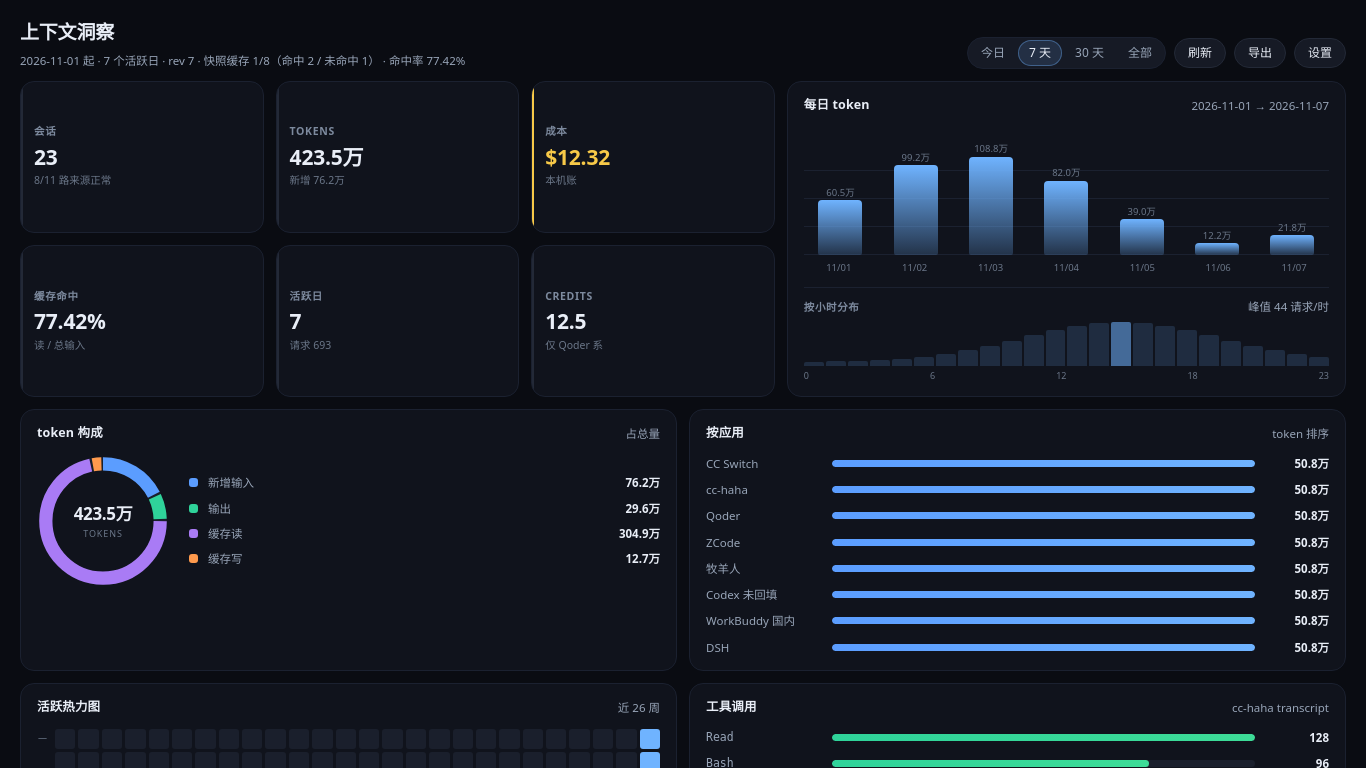
Test: 主面板右键菜单 › 右键阻止默认菜单，弹出与托盘同源的命令树；Esc 关闭
Right-click the element with test id "insights": [683, 384] box [0,0,1365,767]
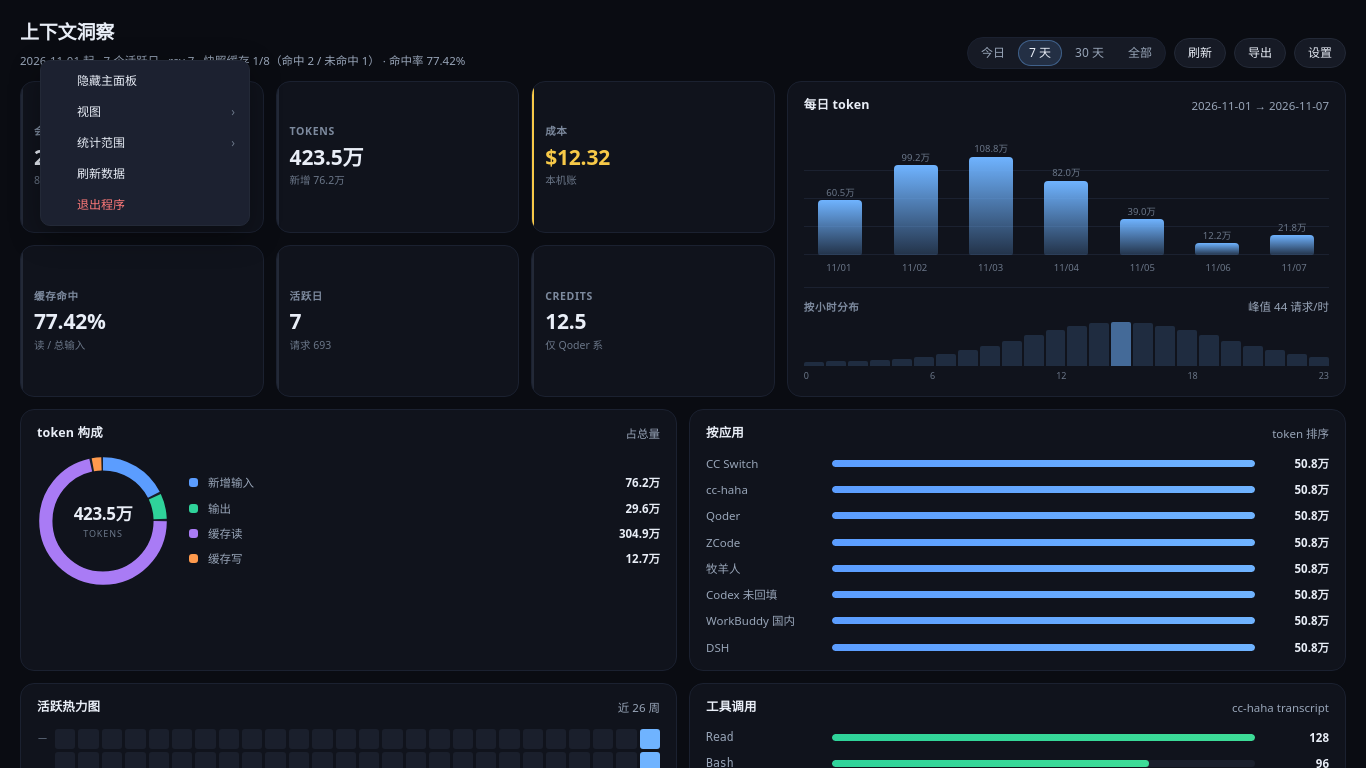
Result: the menu with test id "context-menu" is shown at [40,60,250,226]
Result: the menu item with test id "menu-panel.toggle" is shown at [46,66,244,96]
Press Escape
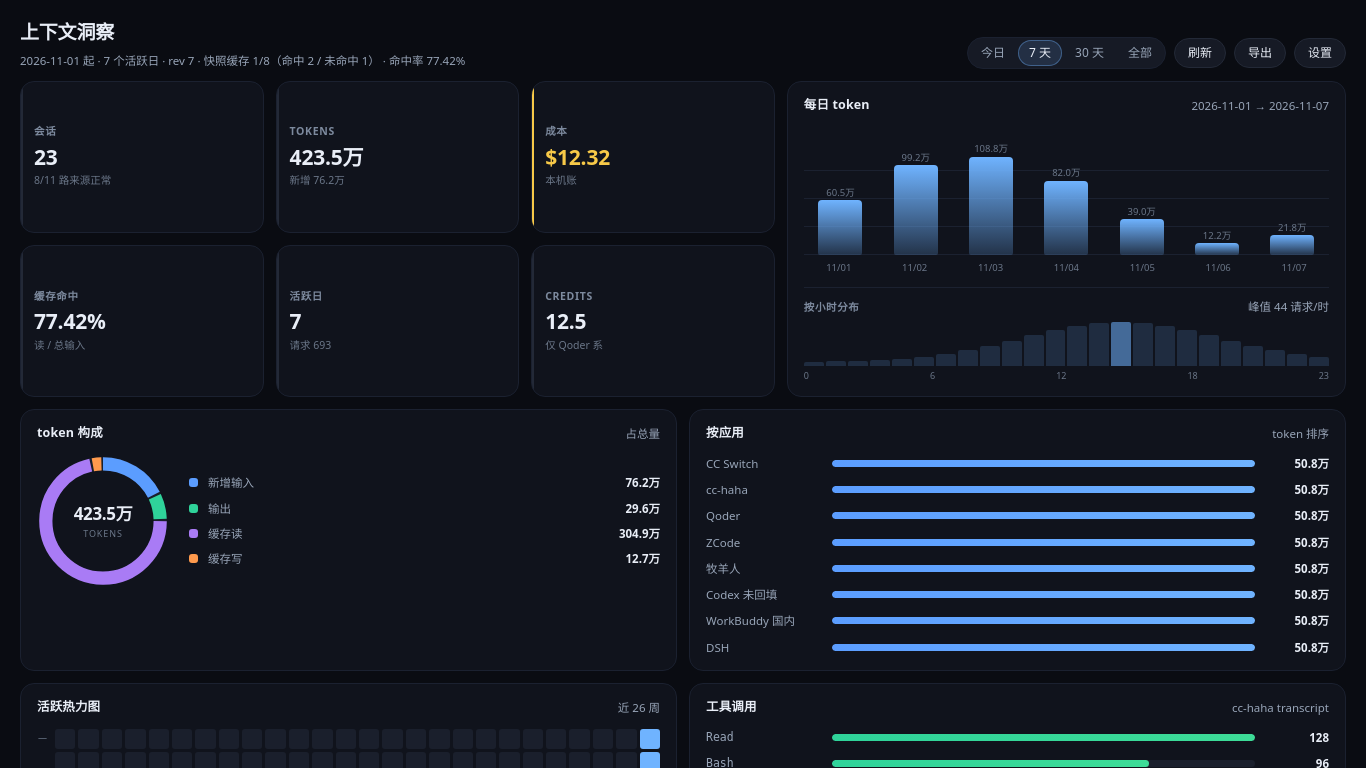
Result: the menu with test id "context-menu" is gone
